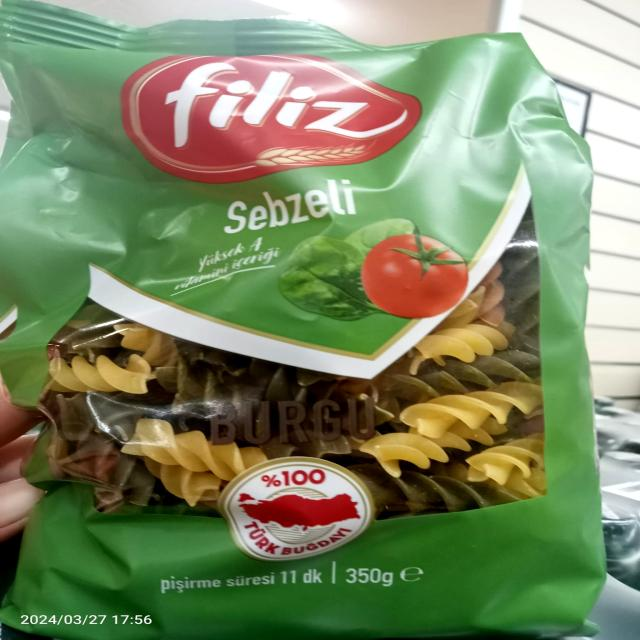fusilli pasta: (1, 54, 600, 640)
